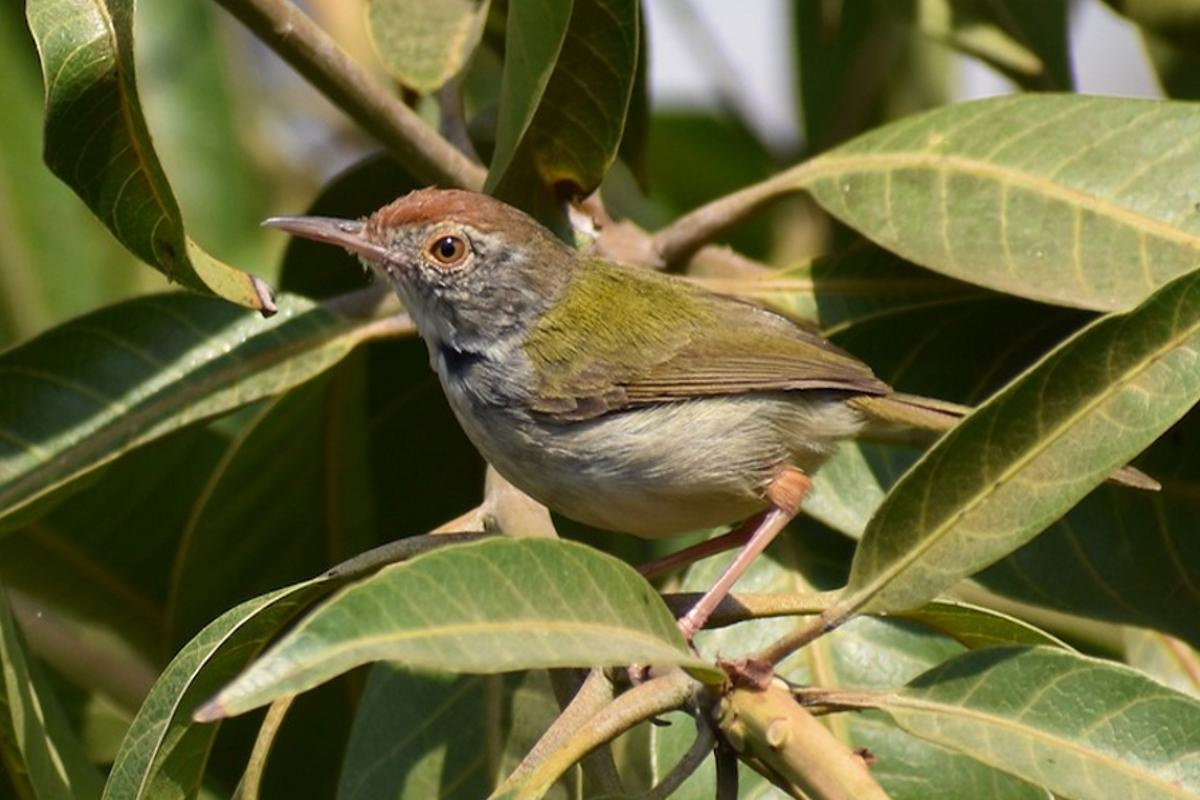tailorbird: (249, 147, 1036, 617)
